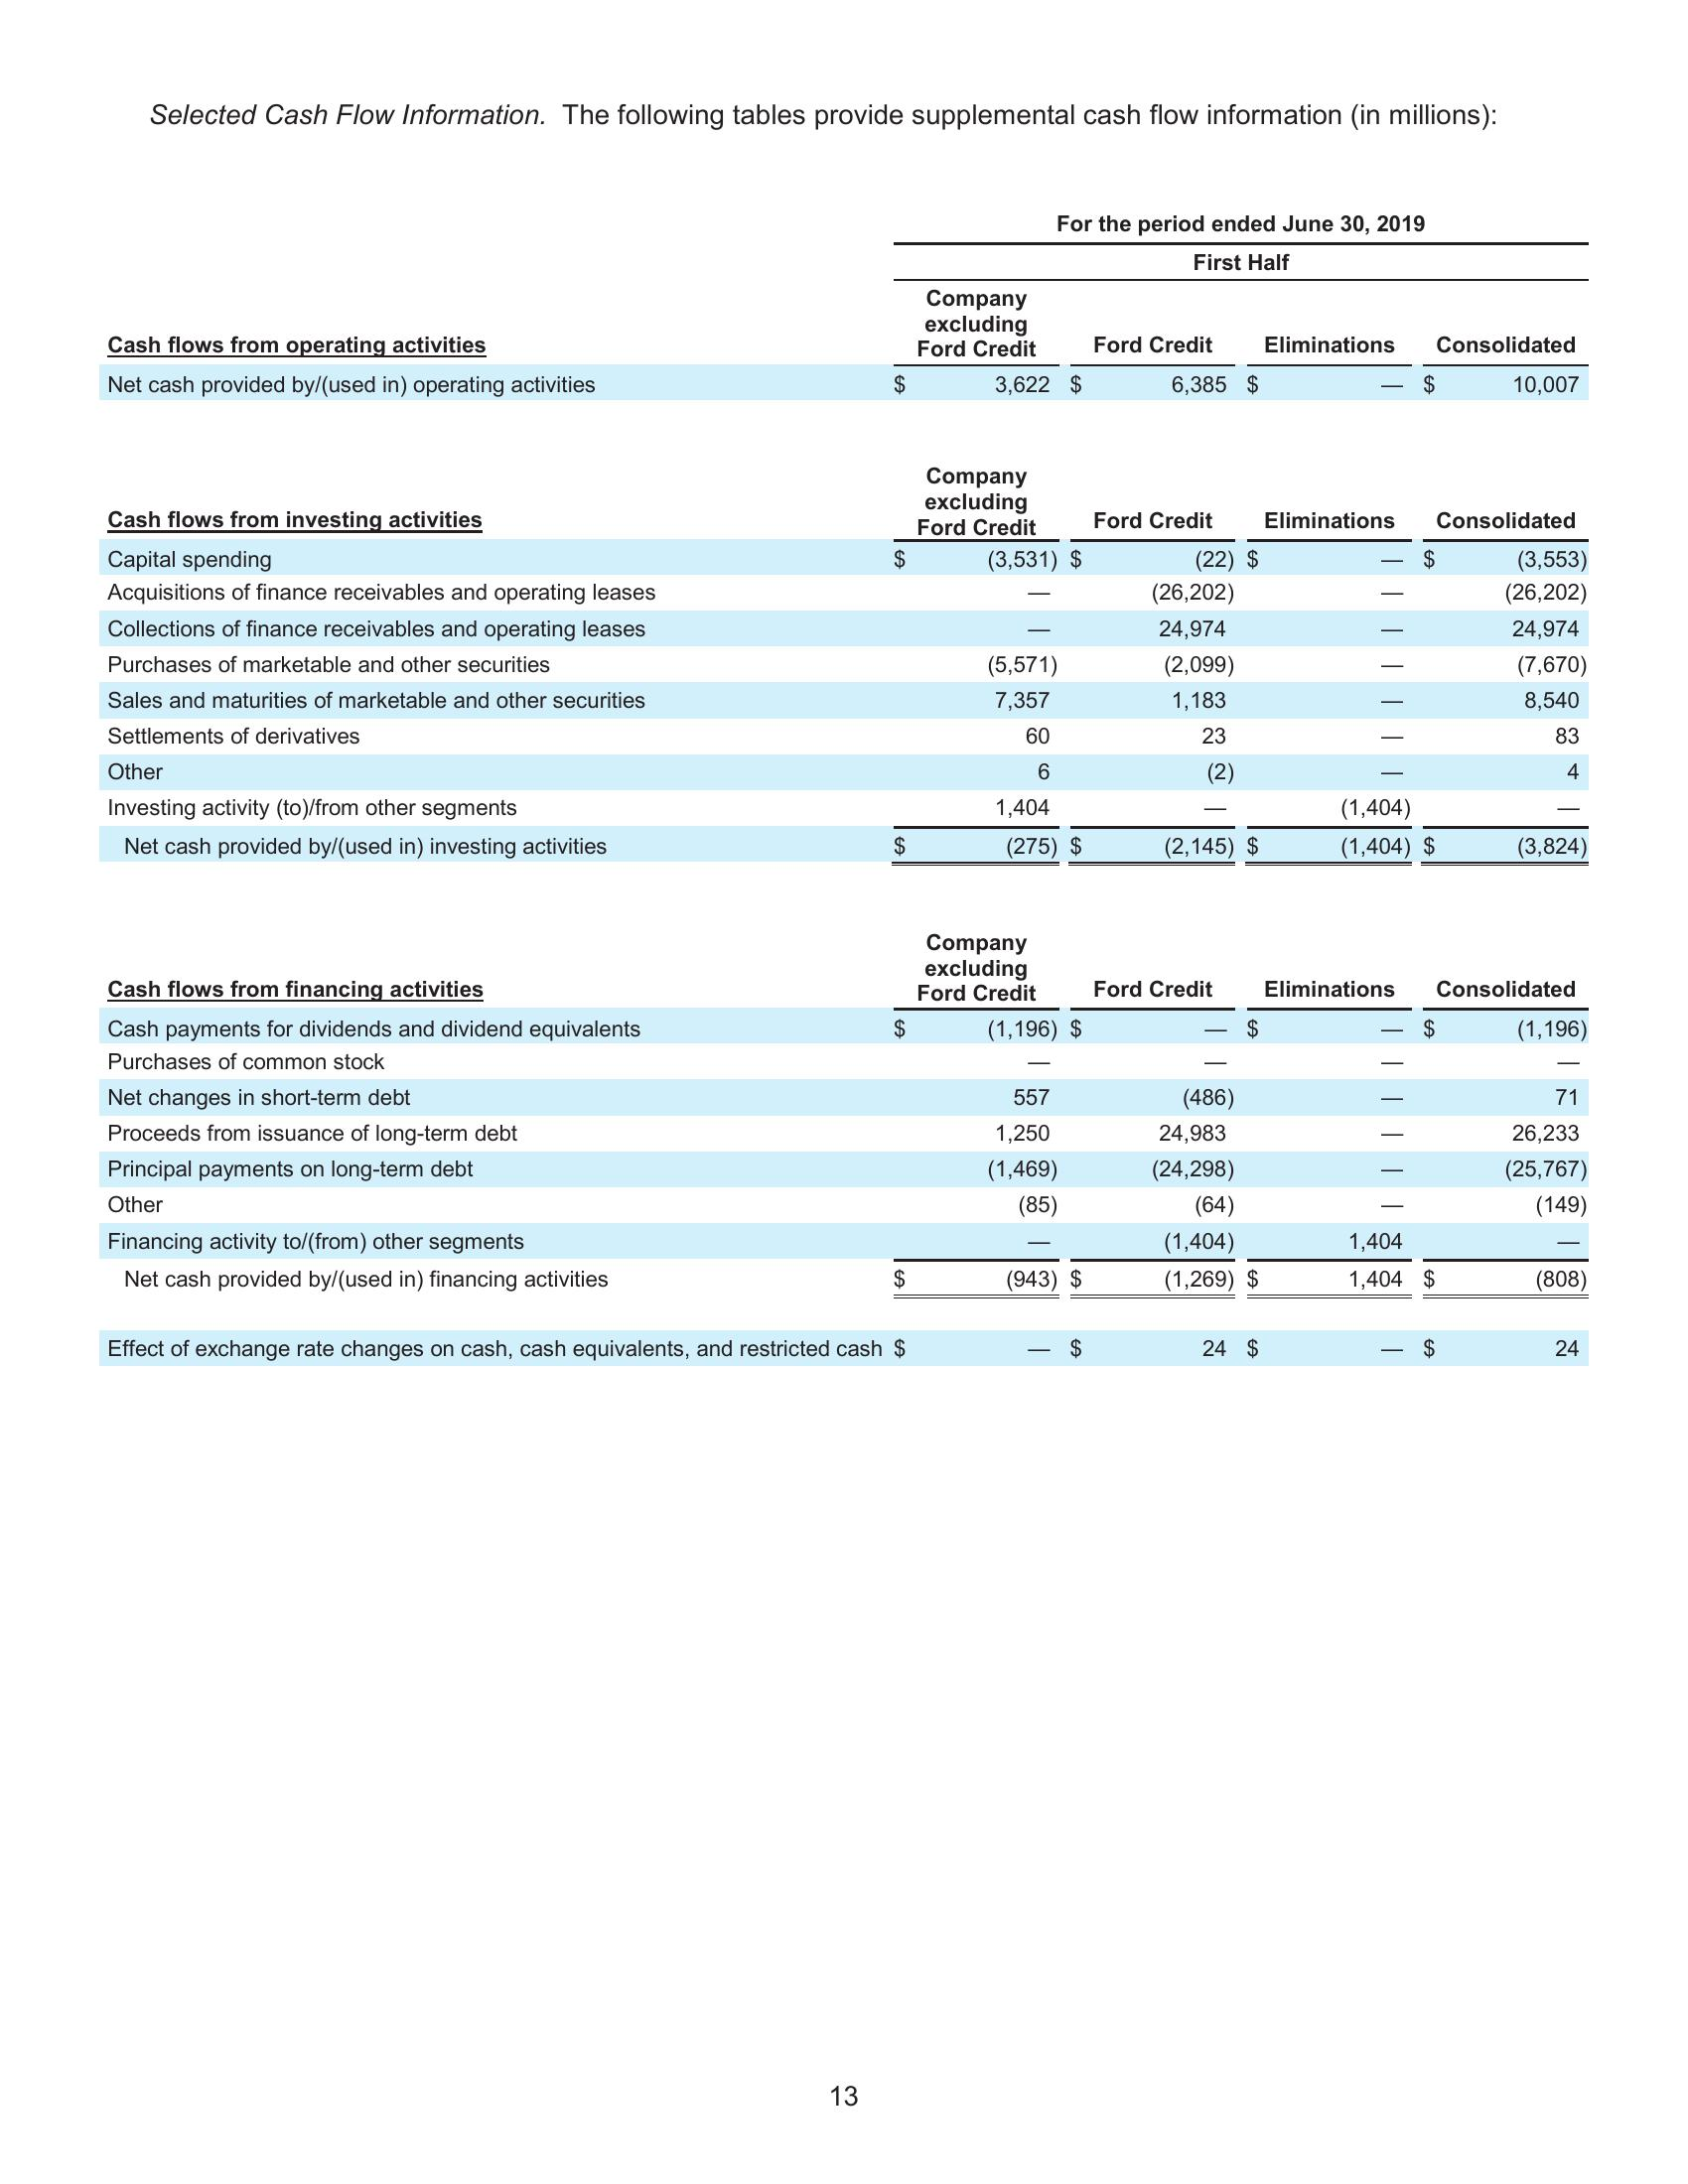table: (92, 209, 1594, 872), (92, 920, 1592, 1367)
